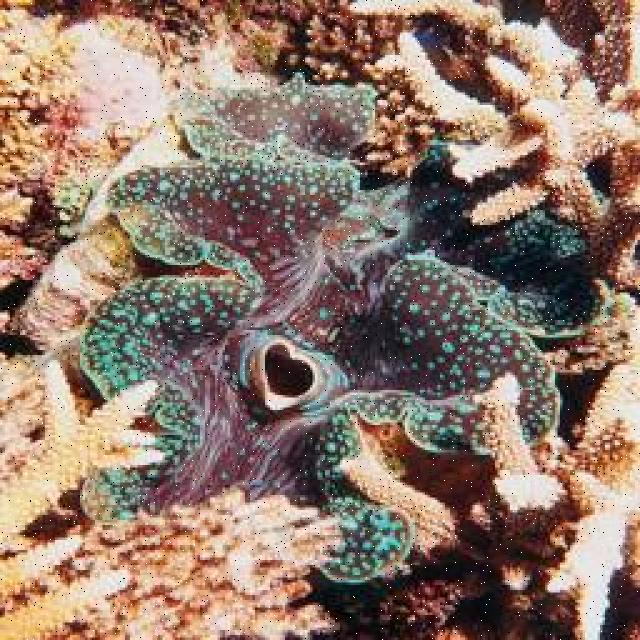reefs: (79, 69, 602, 584), (0, 350, 345, 636)
